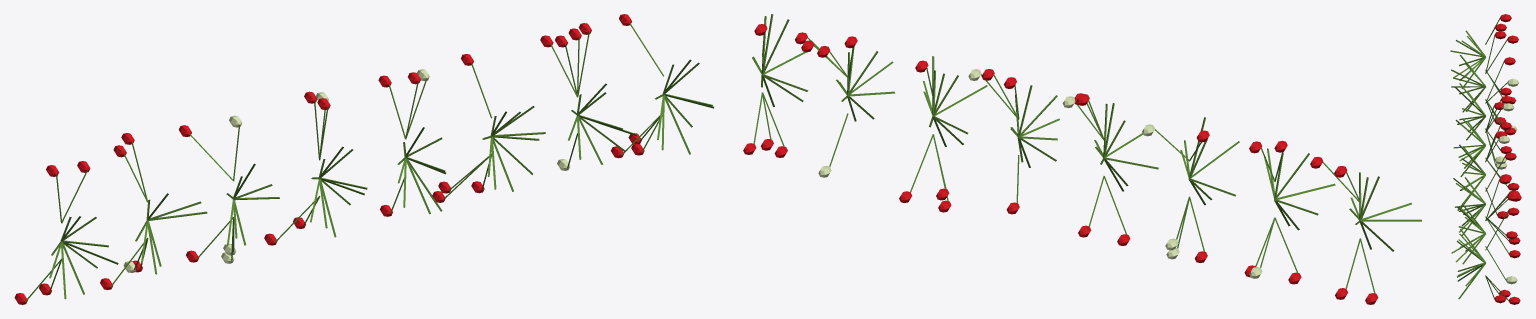
The model's file is r31c3_rest.obj.
3 renders of one model, left to right at view 1: azimuth 30°, elevation 25°; view 2: azimuth 150°, elevation 25°; view 3: azimuth 270°, elevation 25°, orthographic. The views are drawn at different scales.
Visible parts, largest first — view 1: r31c3_rest; view 2: r31c3_rest; view 3: r31c3_rest.
Boxes of the visible parts, x1,y1,x2,y2 form: r31c3_rest: (14, 14, 714, 304); r31c3_rest: (743, 14, 1421, 304); r31c3_rest: (1450, 14, 1521, 304).
Bounding box in the file's own units: 1.95 × 0.4042 × 0.2575.
